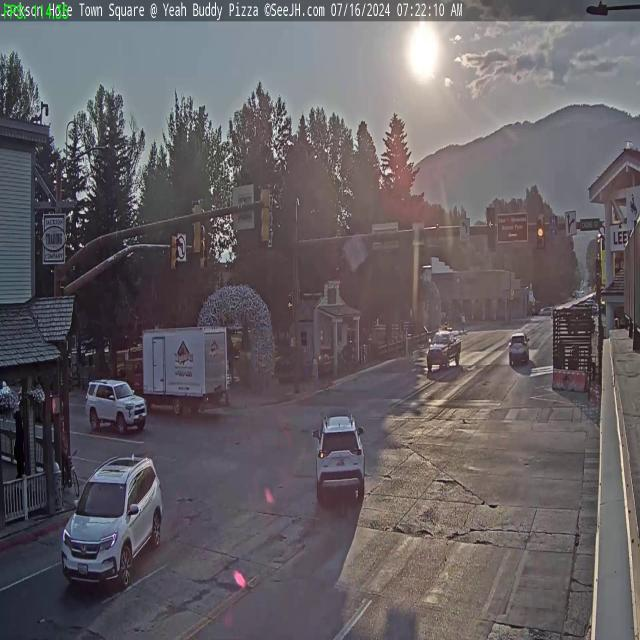bike: (58, 458, 80, 496)
person: (59, 418, 70, 477)
pickup: (426, 328, 461, 374)
suv: (58, 451, 165, 590), (314, 411, 366, 503), (86, 377, 148, 436), (508, 333, 530, 364)
traffic light: (190, 198, 204, 255), (260, 183, 272, 244), (487, 206, 496, 251), (536, 214, 544, 248), (171, 231, 177, 272)
truck: (131, 318, 229, 419)
